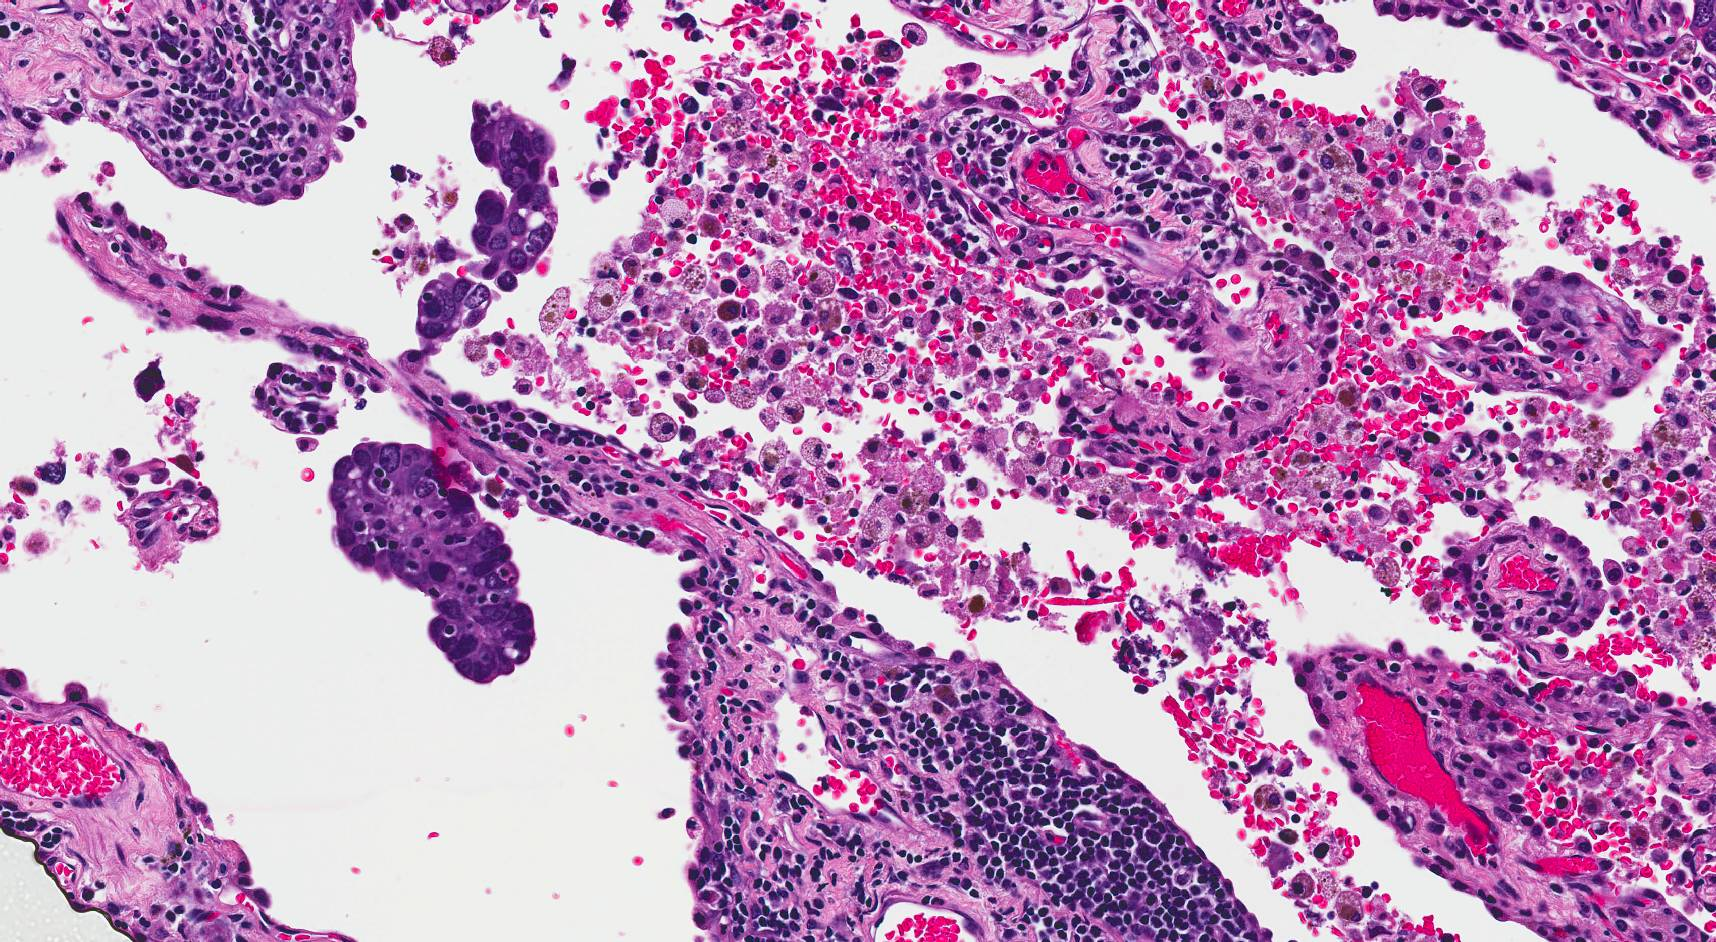stas: (322, 434, 542, 691), (456, 102, 566, 293), (412, 276, 495, 351)
